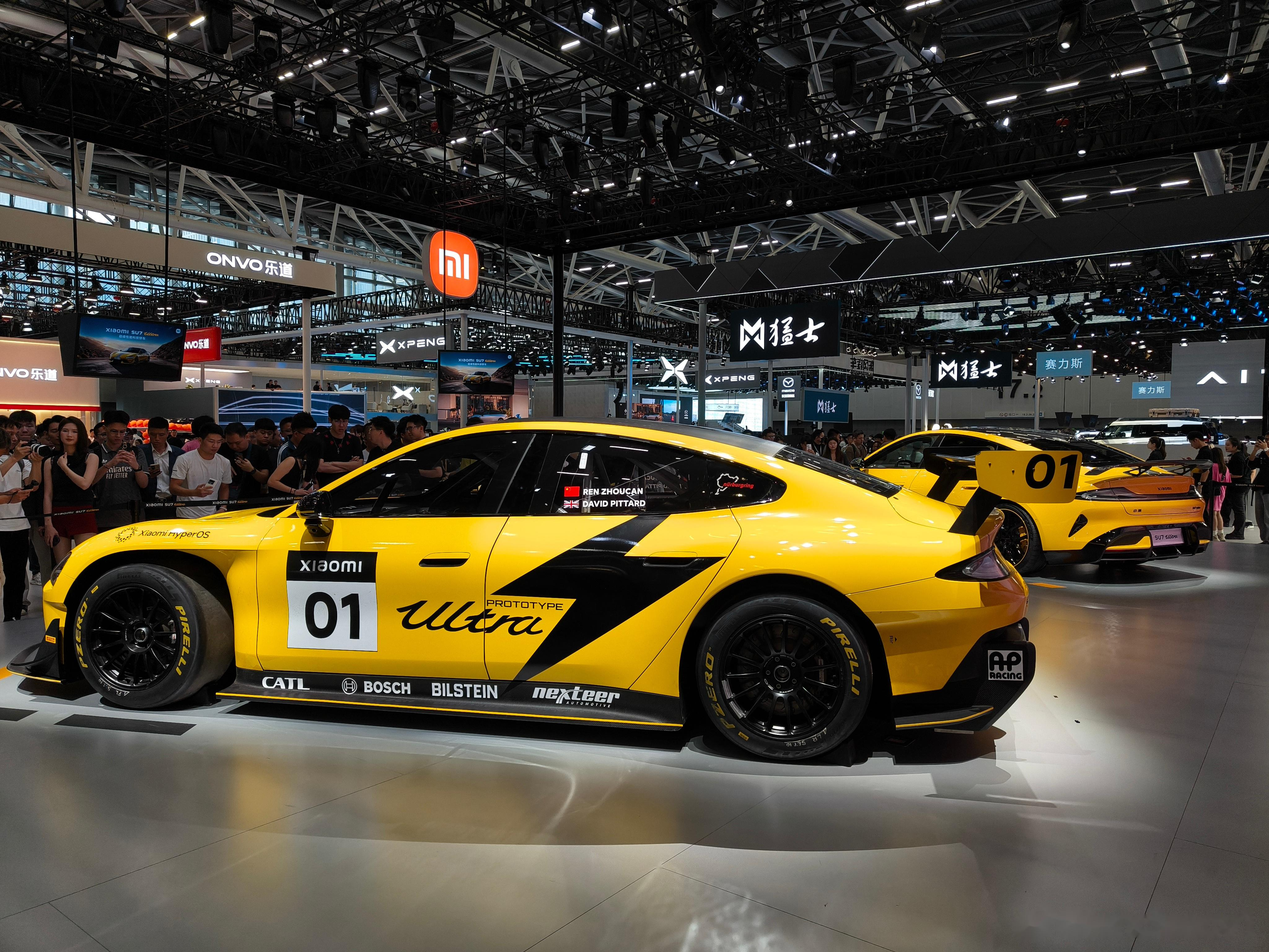su7: (23, 421, 1037, 744), (851, 426, 1247, 577)
